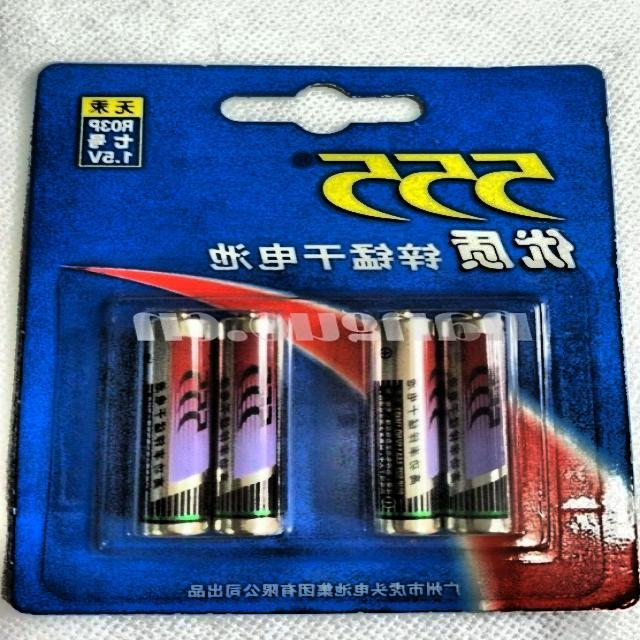battery: (134, 310, 289, 535), (370, 310, 517, 534)
